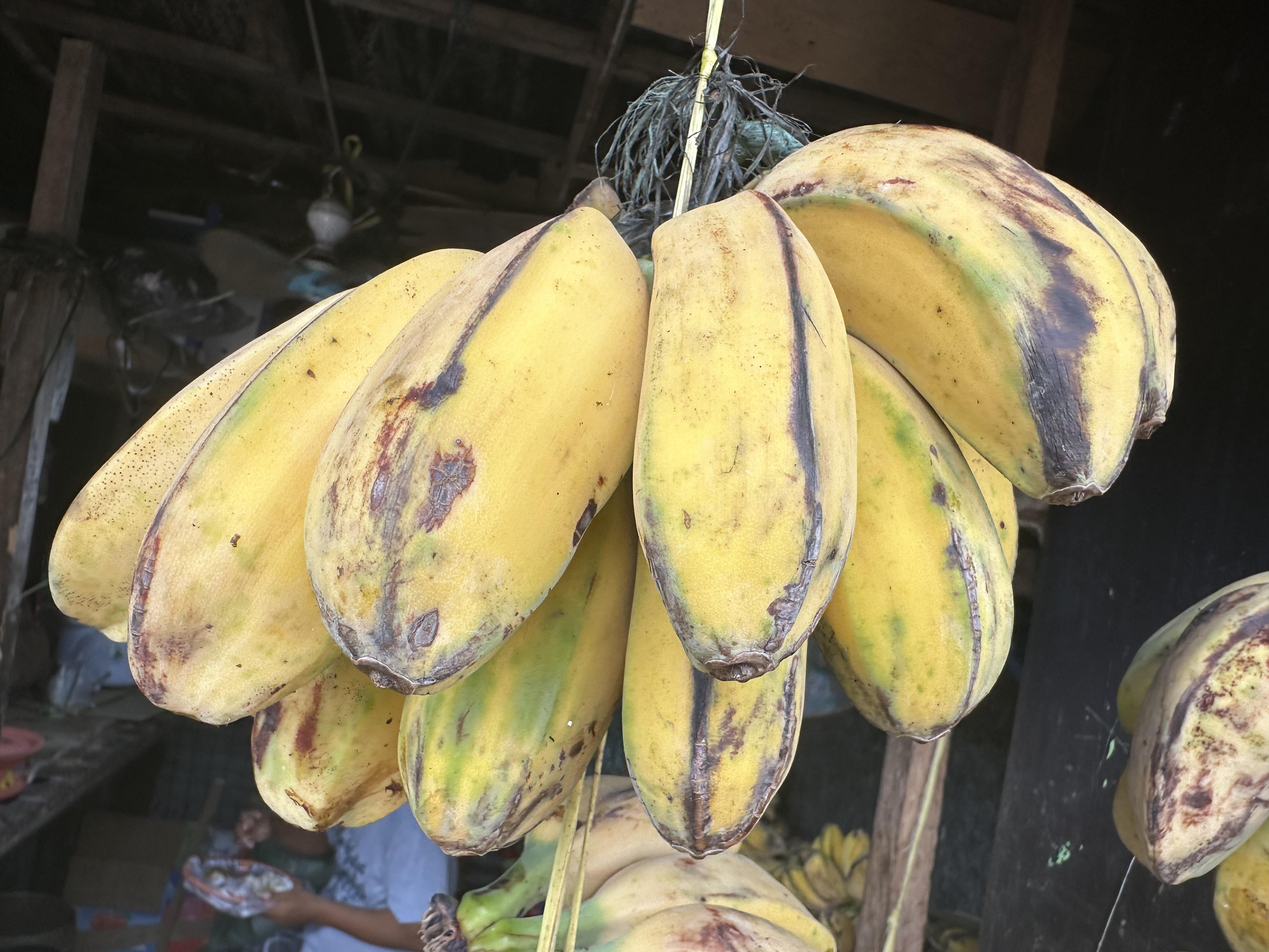ripe: (580, 775, 835, 952)
underripe: (46, 121, 1176, 861), (1111, 568, 1269, 952)
